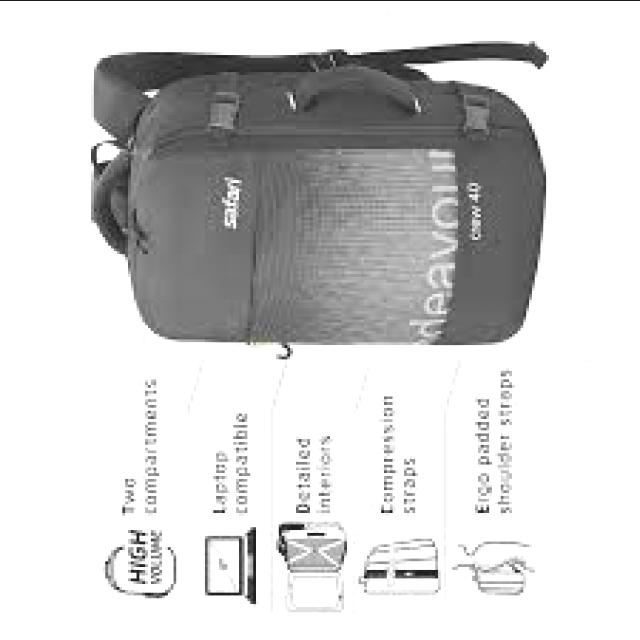backpack: (89, 41, 547, 351)
